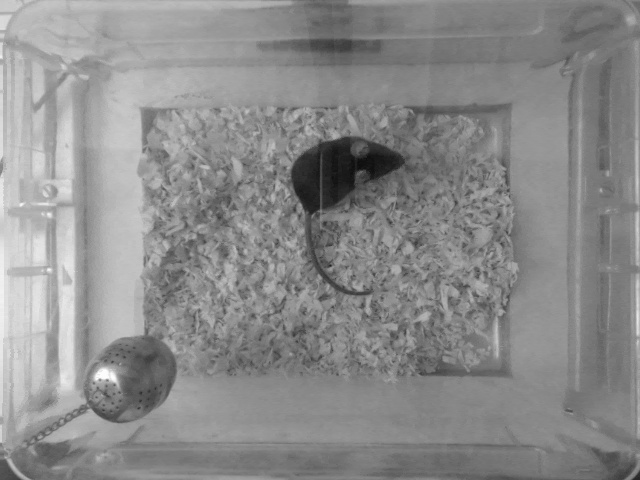mice: (287, 131, 410, 300)
